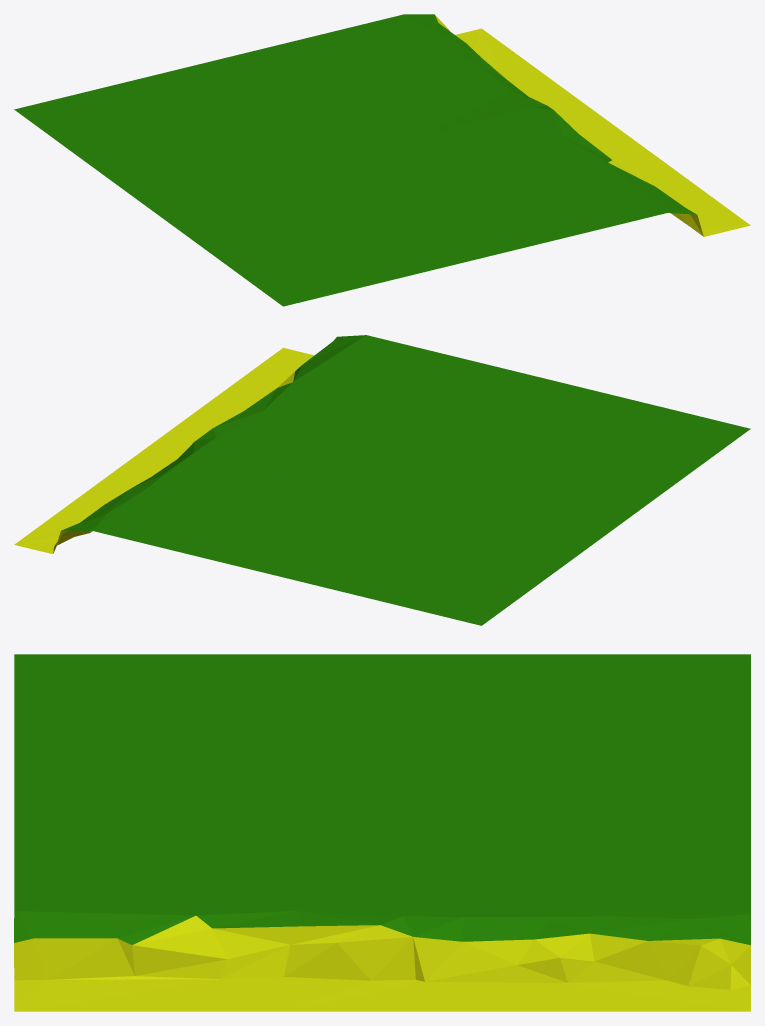
3 renders of one model, top to bottom at view 1: azimuth 30°, elevation 25°; view 2: azimuth 150°, elevation 25°; view 3: azimuth 270°, elevation 25°, orthographic. The views are drawn at different scales.
Parts seen in each view (by area): view 1: TerrainVeryHigh.010; view 2: TerrainVeryHigh.010; view 3: TerrainVeryHigh.010.
Part boxes in pixels (x1,y1,x2,y2): TerrainVeryHigh.010: (14, 14, 750, 306); TerrainVeryHigh.010: (14, 335, 750, 625); TerrainVeryHigh.010: (14, 654, 750, 1011).
Bounding box in the file's own units: 1253 × 1250 × 84.77.
